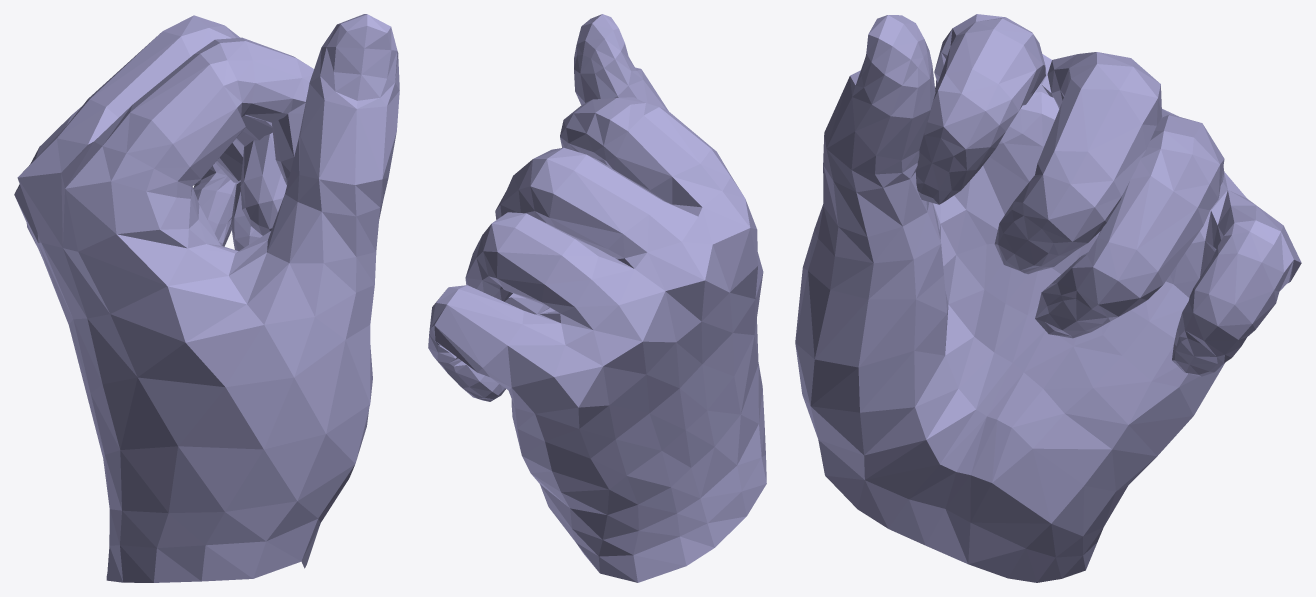
Rendered from frame_0077_source_000077_hand.glb.
3 views of the same model, side by side, from view 1: azimuth 30°, elevation 25°; view 2: azimuth 150°, elevation 25°; view 3: azimuth 270°, elevation 25° (orthographic). The views are drawn at different scales.
Parts seen in each view (by area): view 1: world; view 2: world; view 3: world.
Boxes of the visible parts, x1=… form: world: x1=14, y1=14, x2=399, y2=582; world: x1=428, y1=14, x2=766, y2=582; world: x1=795, y1=14, x2=1301, y2=582.
Bounding box in the file's own units: 0.0635 × 0.1245 × 0.0949.
